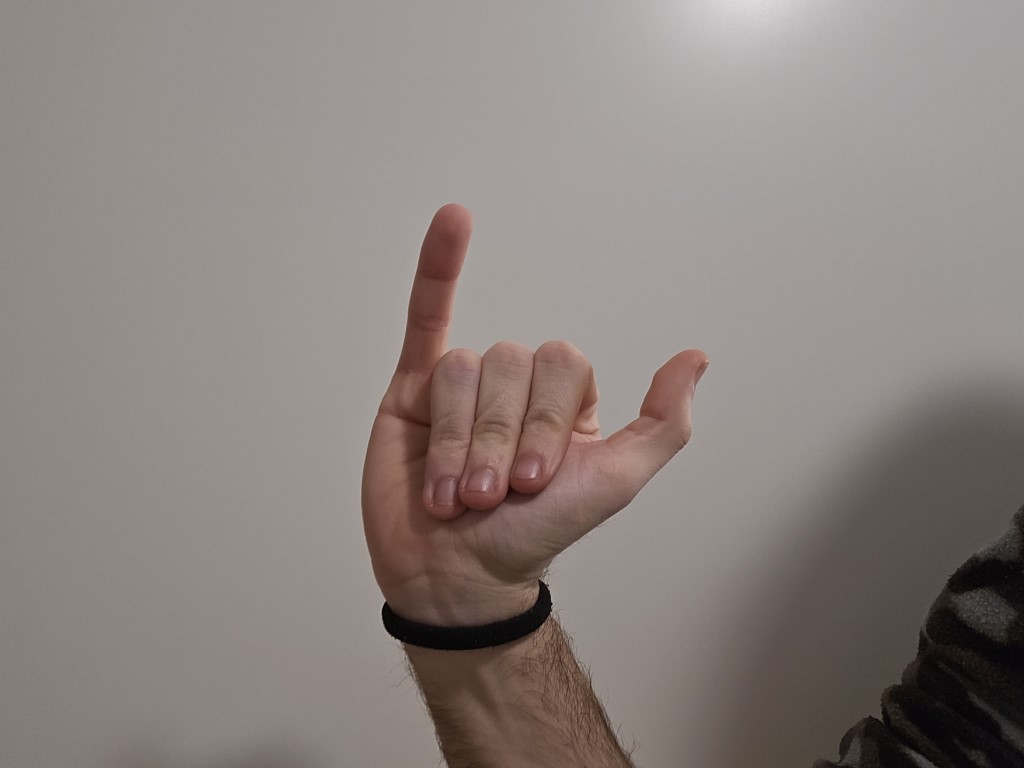y: (310, 181, 735, 615)
